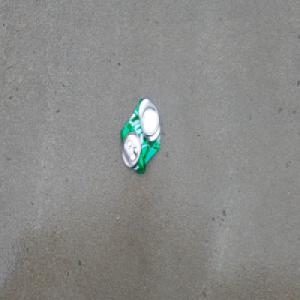SodaCan: (119, 95, 163, 176)
